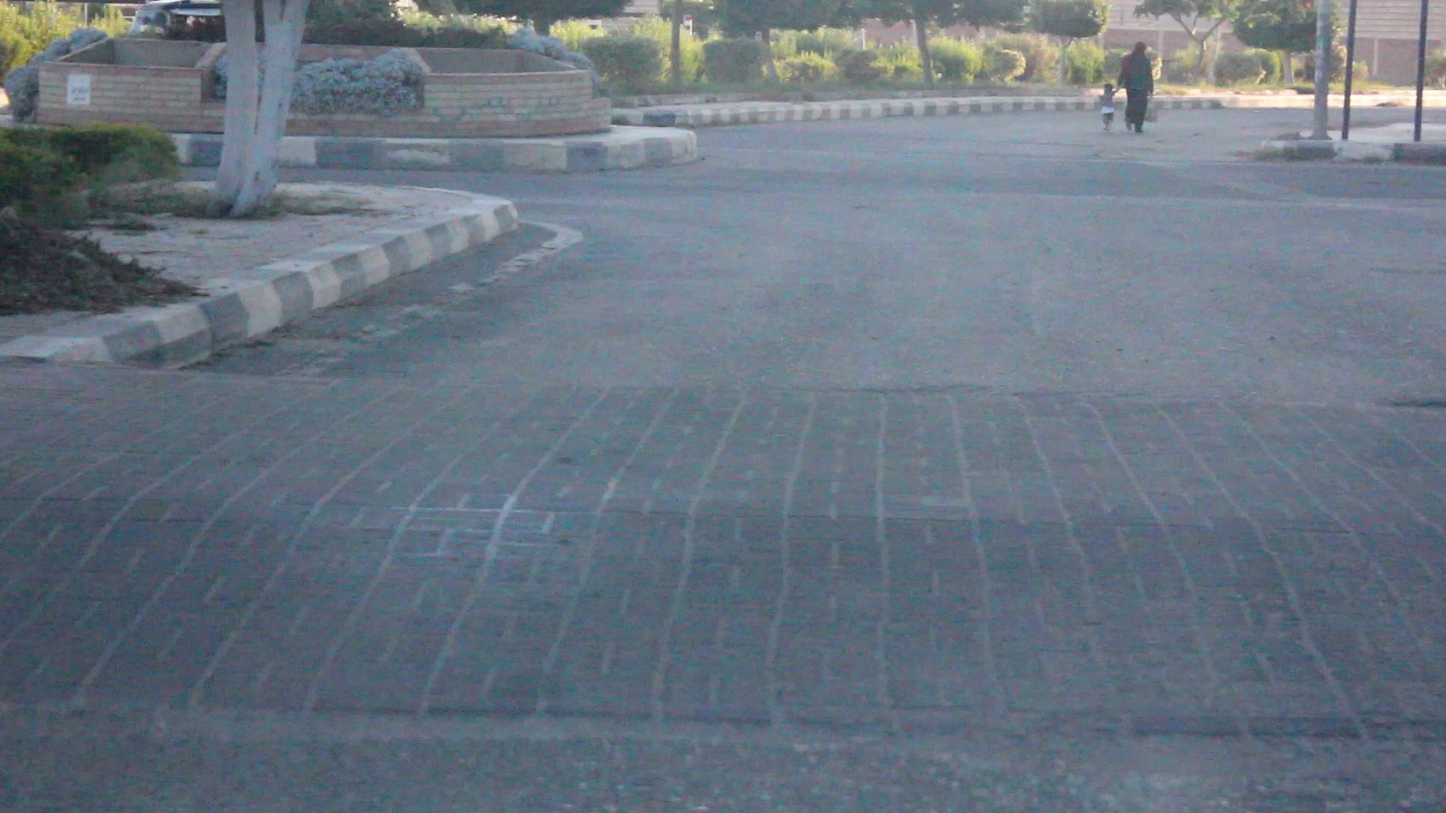Bump: (8, 380, 1446, 700)
